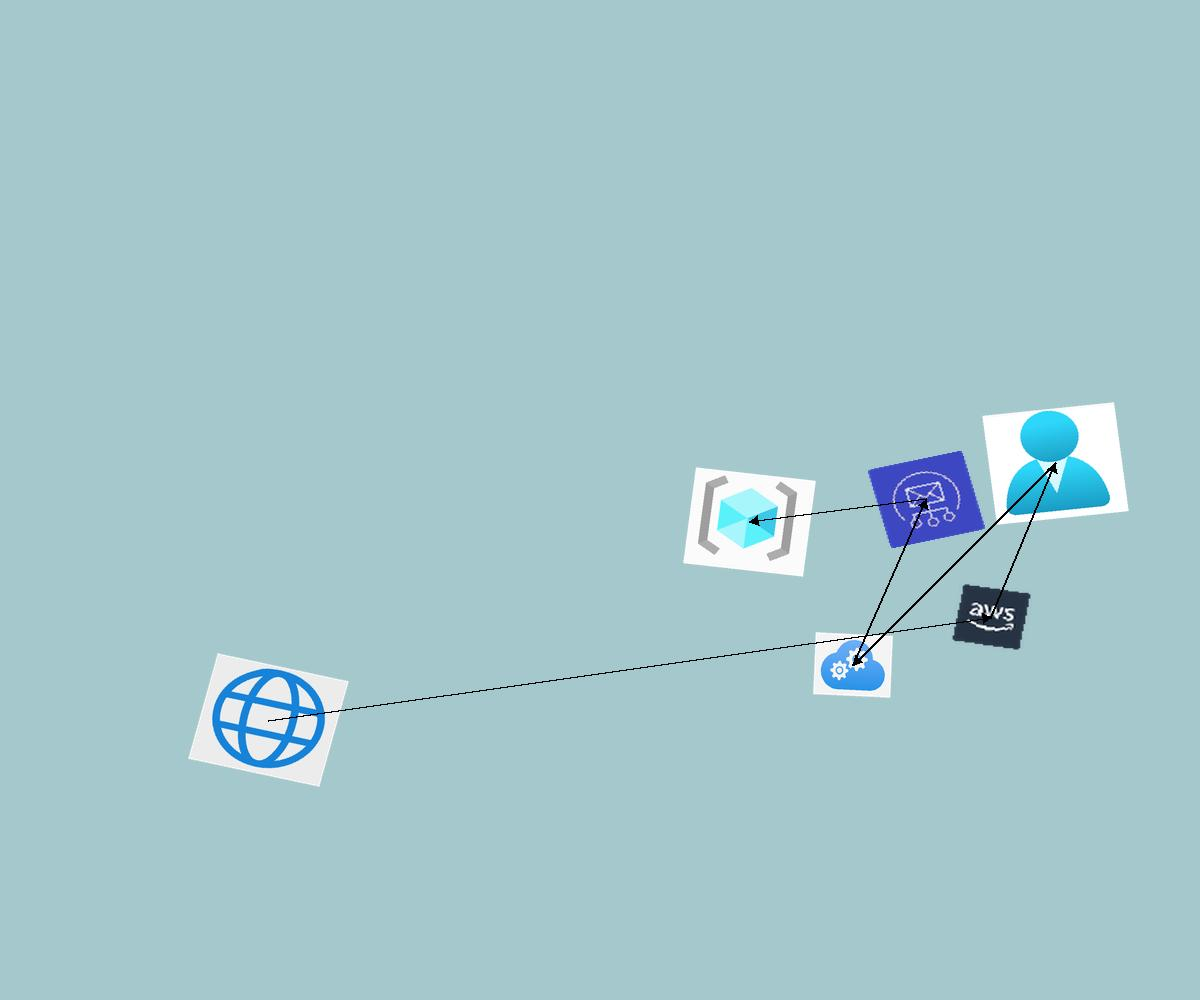AWS-Cloud-logo: (951, 583, 1032, 651)
AWS-Simple-Email-Service: (867, 450, 986, 549)
Azure_cloud_services: (813, 632, 893, 698)
Azure_http: (188, 653, 349, 787)
Azure_resource_group: (683, 467, 816, 577)
Azure_users: (982, 402, 1129, 525)
